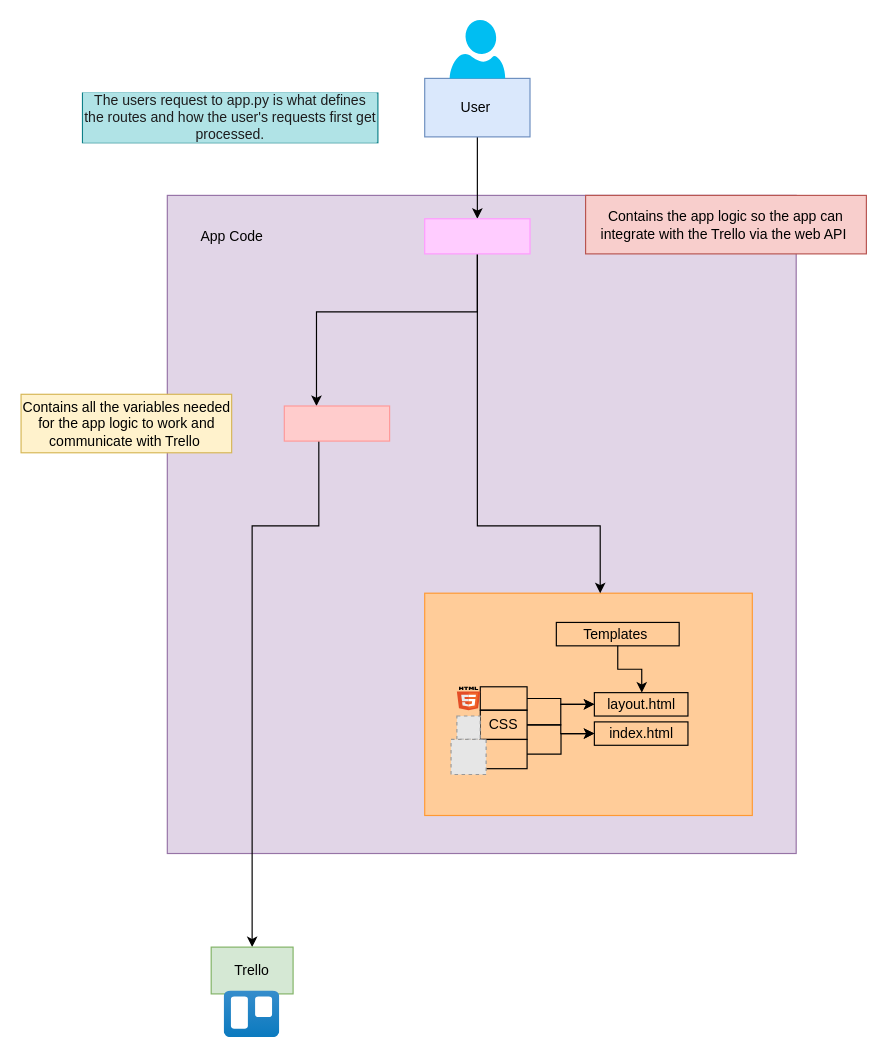
Some shapes in this 887 by 1058 pixel diagram are drawn without their labels. Grey dashed boxes stand in for pictures. The centre of each missing label's shape, as x and y in pixels:
"App.py" goes at point 477,236.
"HTML" goes at point 503,698.
"Jinja2" goes at point 503,753.
"Trello.py" goes at point 336,423.
